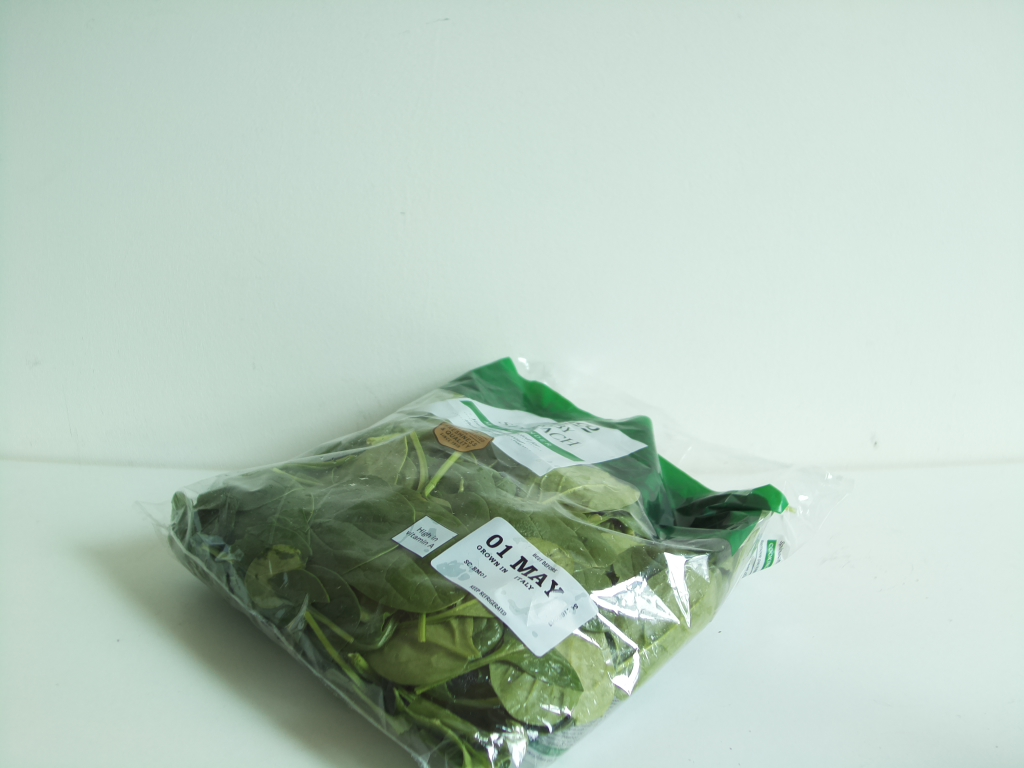salad: (168, 363, 796, 766)
